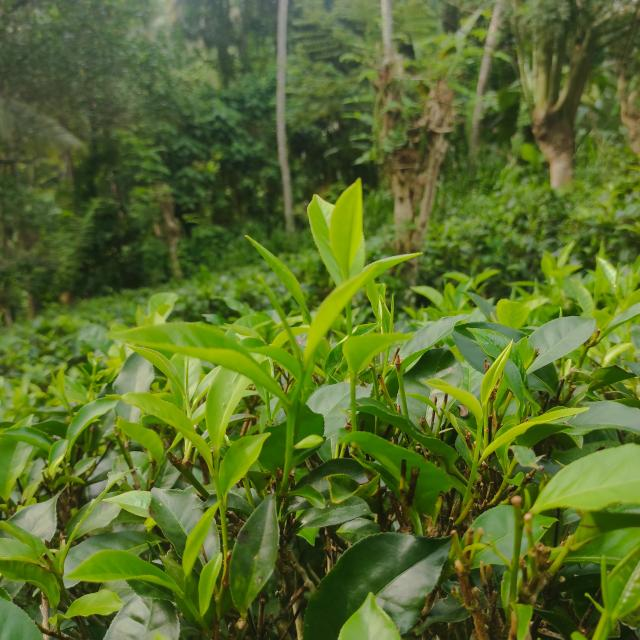unopened_leaf: (250, 266, 307, 370), (591, 548, 619, 620), (52, 372, 76, 418), (178, 350, 197, 398)
